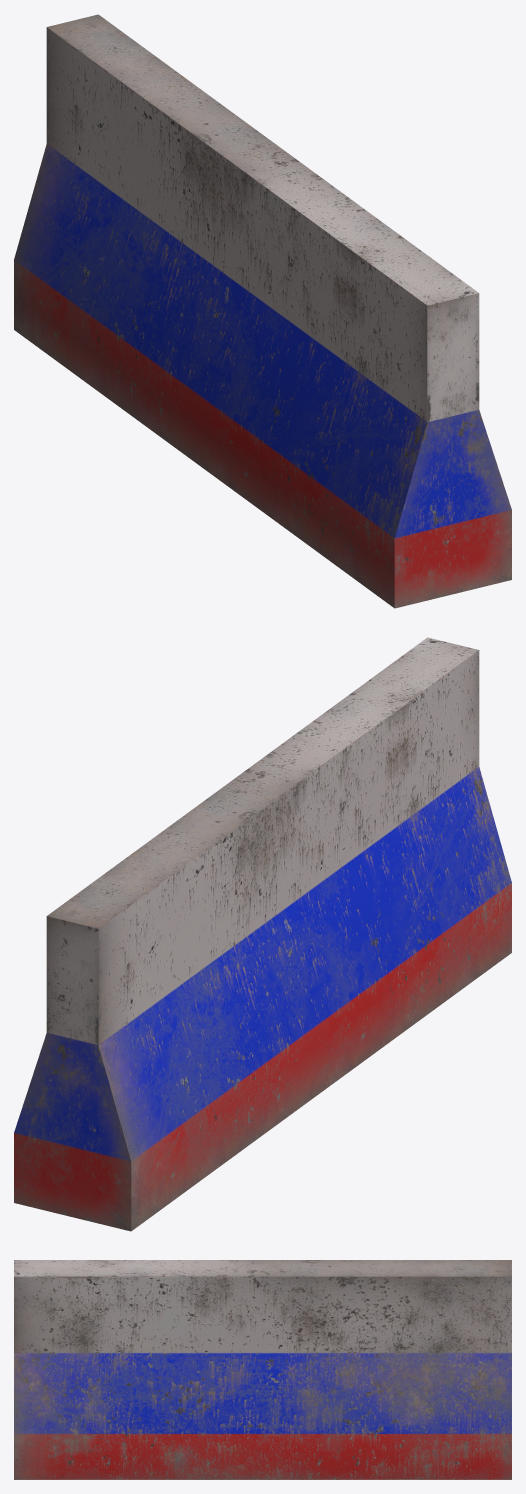
The model's file is post_apocalyptic_russian_flag_obstacle.glb.
3 views of the same model, one above another, from view 1: azimuth 30°, elevation 25°; view 2: azimuth 150°, elevation 25°; view 3: azimuth 270°, elevation 25° (orthographic). The views are drawn at different scales.
Parts seen in each view (by area): view 1: pCube1; view 2: pCube1; view 3: pCube1.
Boxes of the visible parts, bbox=[...] form: pCube1: bbox=[14, 14, 511, 608]; pCube1: bbox=[14, 637, 511, 1231]; pCube1: bbox=[14, 1260, 511, 1479].
Size of the model in its own units: 0.8016 by 1.93 by 4.51.
1 material, 1 textured.
